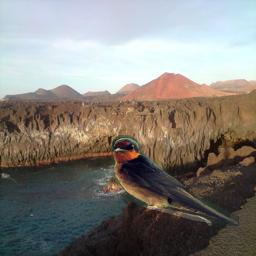Swallow: (111, 135, 239, 226)
